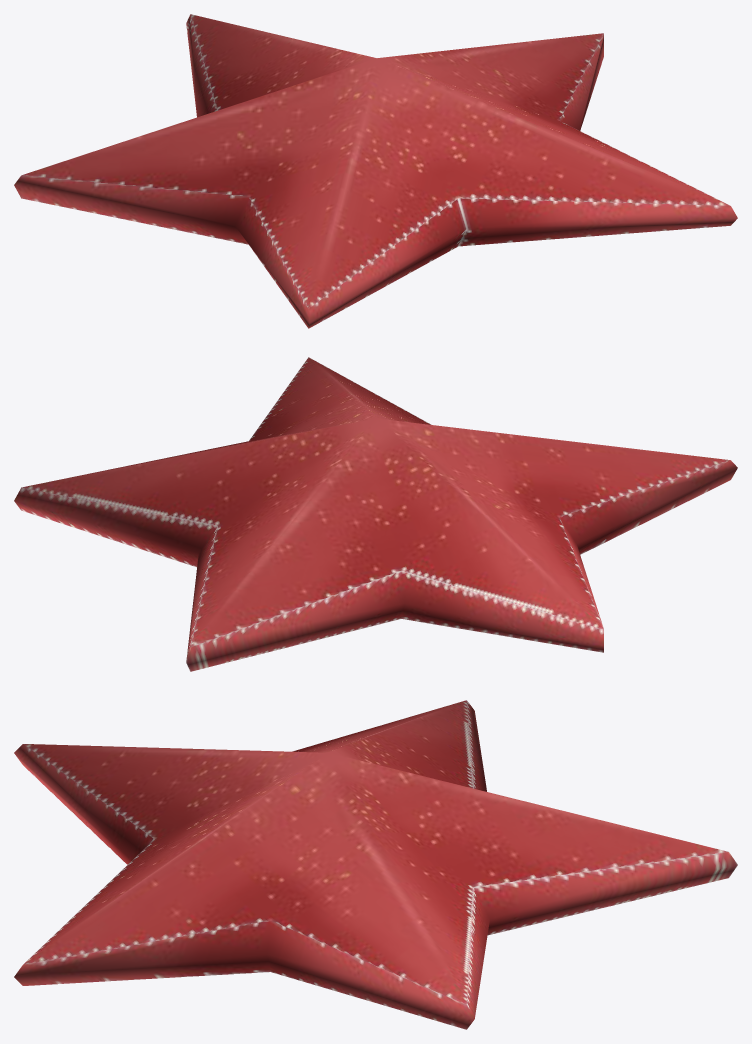
The model's file is 불가사리.FBX.
The picture shows the model from 3 angles, top to bottom: view 1: azimuth 30°, elevation 25°; view 2: azimuth 150°, elevation 25°; view 3: azimuth 270°, elevation 25°; orthographic projection. The views are drawn at different scales.
Visible parts, largest first — view 1: Box001; view 2: Box001; view 3: Box001.
Boxes of the visible parts, x1,y1,x2,y2 form: Box001: (14, 14, 737, 328); Box001: (14, 357, 737, 671); Box001: (14, 700, 737, 1029).
Size of the model in its own units: 35.27 by 9.38 by 34.96.
